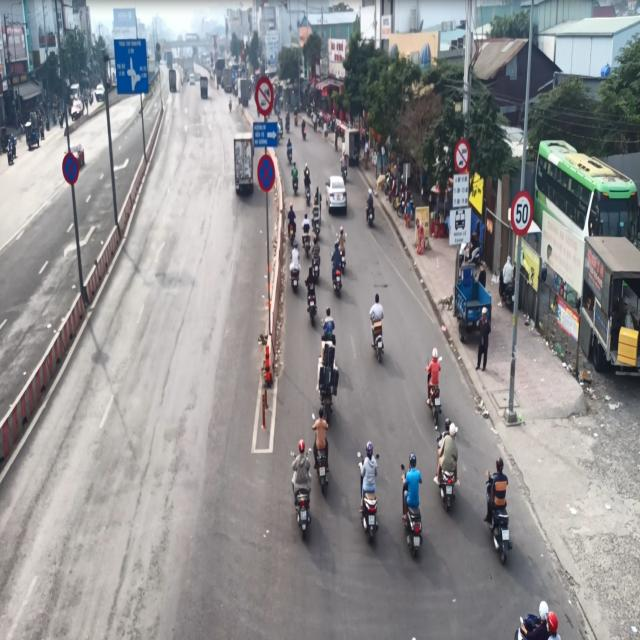motor: (479, 452, 514, 555), (399, 454, 428, 574), (432, 407, 460, 516), (353, 435, 379, 544), (291, 433, 313, 545), (420, 345, 448, 416), (307, 407, 331, 489), (371, 290, 390, 369), (364, 181, 378, 234)
truck: (233, 134, 256, 203)
